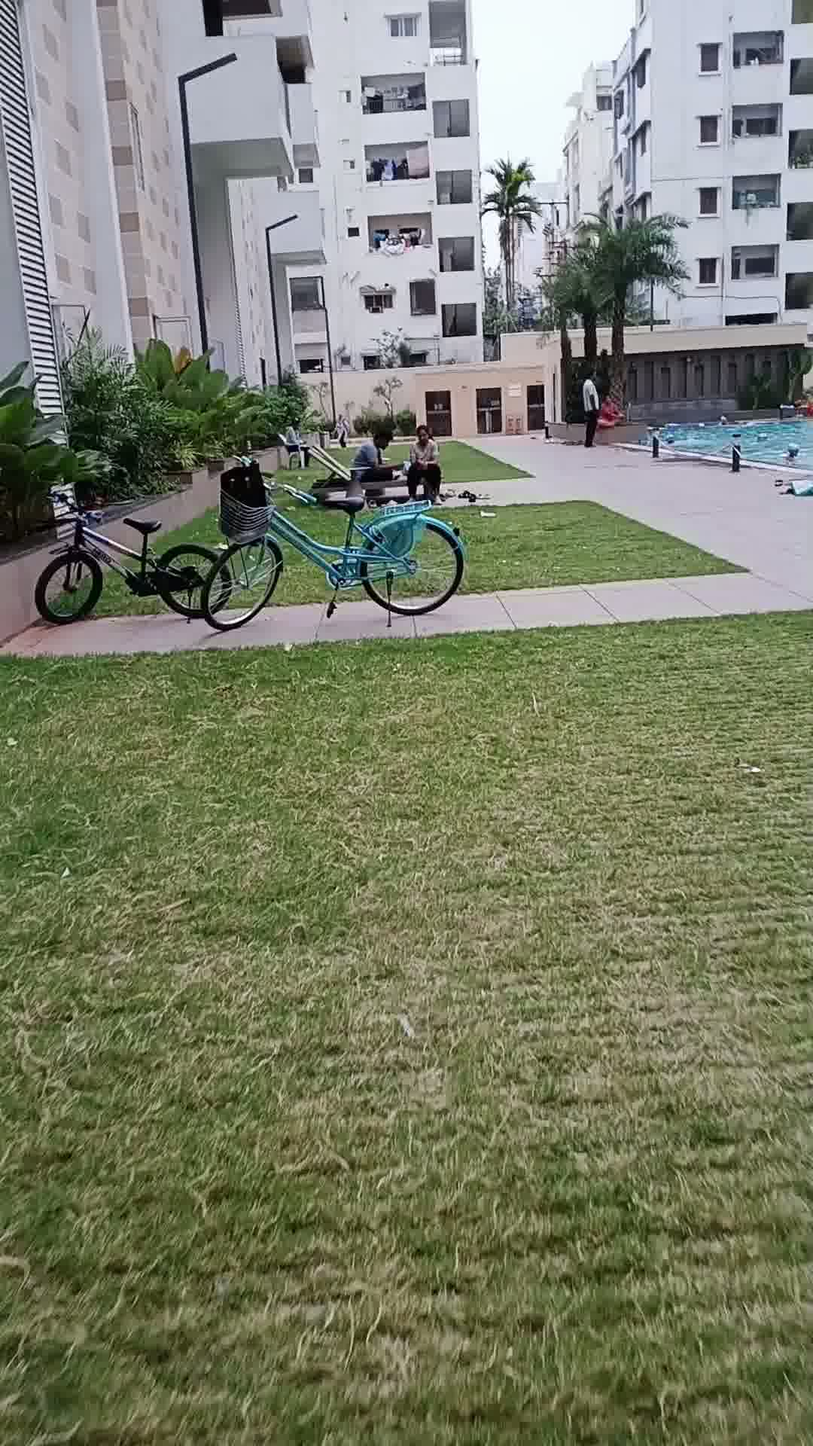bicycle: (202, 436, 478, 649), (23, 473, 222, 632)
person: (342, 402, 403, 504), (409, 404, 460, 504), (568, 358, 609, 456)
tree: (578, 168, 680, 387), (538, 220, 626, 390), (475, 137, 543, 327)
